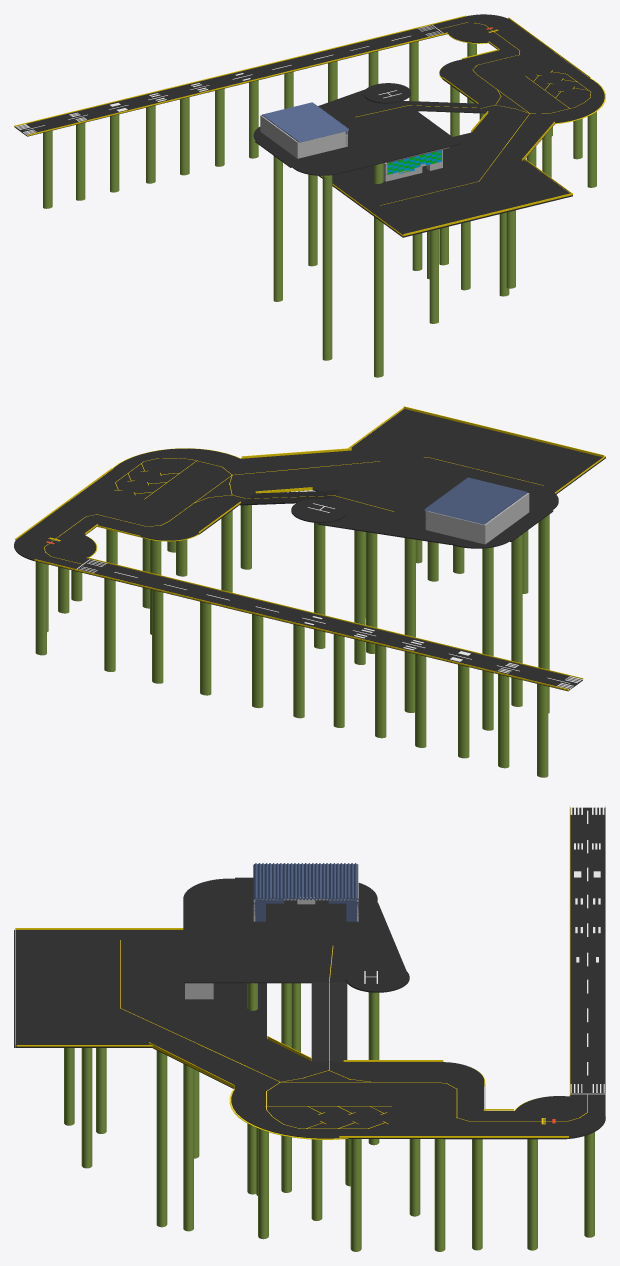
Rendered from tav4.glb.
3 renders of one model, top to bottom at view 1: azimuth 30°, elevation 25°; view 2: azimuth 150°, elevation 25°; view 3: azimuth 270°, elevation 25°, orthographic. The views are drawn at different scales.
Visible parts, largest first — view 1: mesh (×13), cylinder (×23), group; view 2: mesh (×14), cylinder (×31), group; view 3: mesh (×9), cylinder (×24), group.
Boxes of the visible parts, bbox=[...] form: mesh (×13): bbox=[14, 15, 595, 237]; cylinder (×23): bbox=[43, 14, 604, 377]; group: bbox=[458, 17, 590, 82]; mesh (×14): bbox=[32, 406, 605, 691]; cylinder (×31): bbox=[14, 448, 558, 777]; group: bbox=[15, 468, 182, 546]; mesh (×9): bbox=[14, 807, 605, 1138]; cylinder (×24): bbox=[64, 878, 605, 1251]; group: bbox=[339, 1081, 568, 1139].
Size of what is drawn, in the model's own units: 44.05 by 20.2 by 33.22.
Materials: 18 (17 with a texture image).
